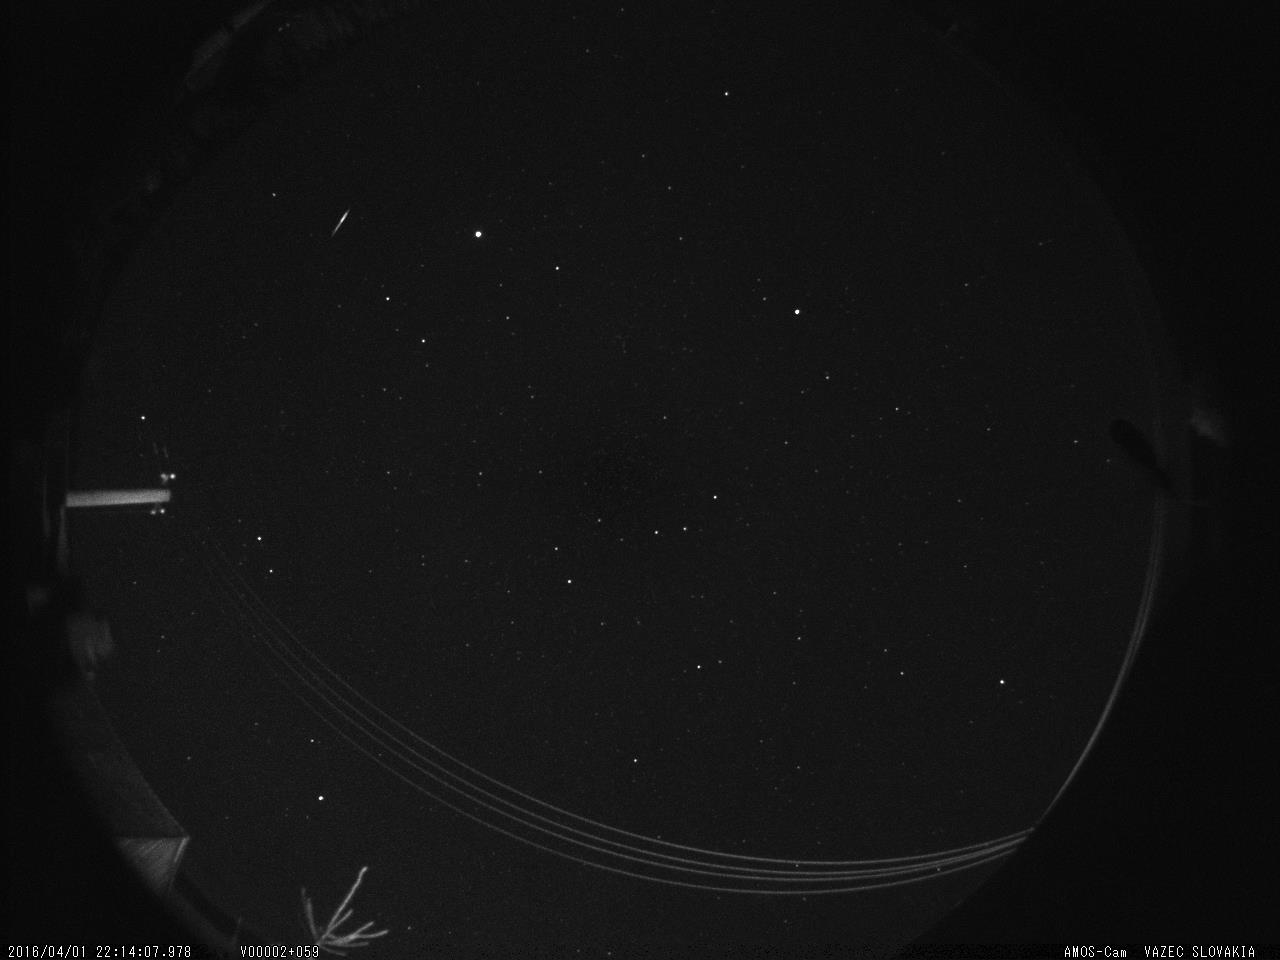meteor: (318, 202, 365, 244)
